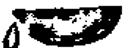Basket: (3, 4, 123, 48)
